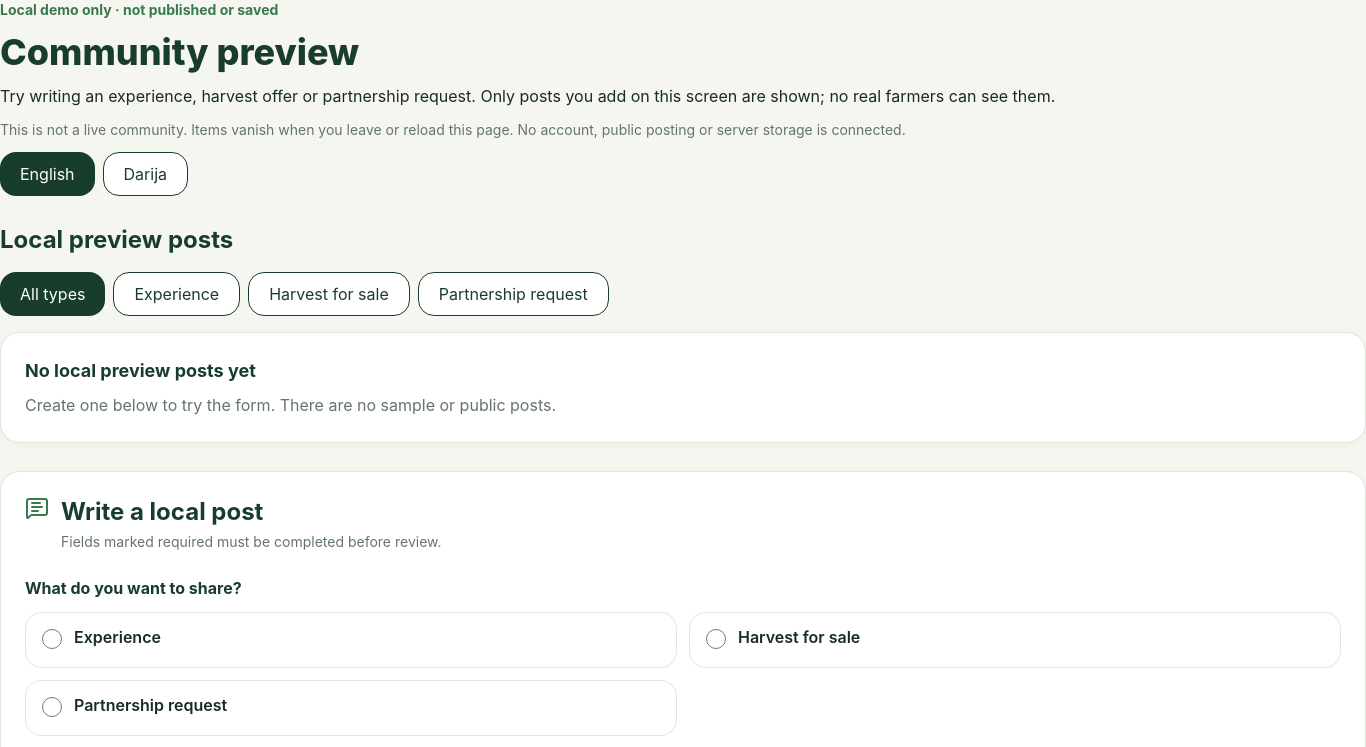
Test case: M4 community is a LOCAL demo, not public posting › reviews and adds an experience only after explicit confirmation
Click the radio button labelled "Experience" at {"x": 52, "y": 639}, box [42, 629, 62, 649]
(page scrolled)
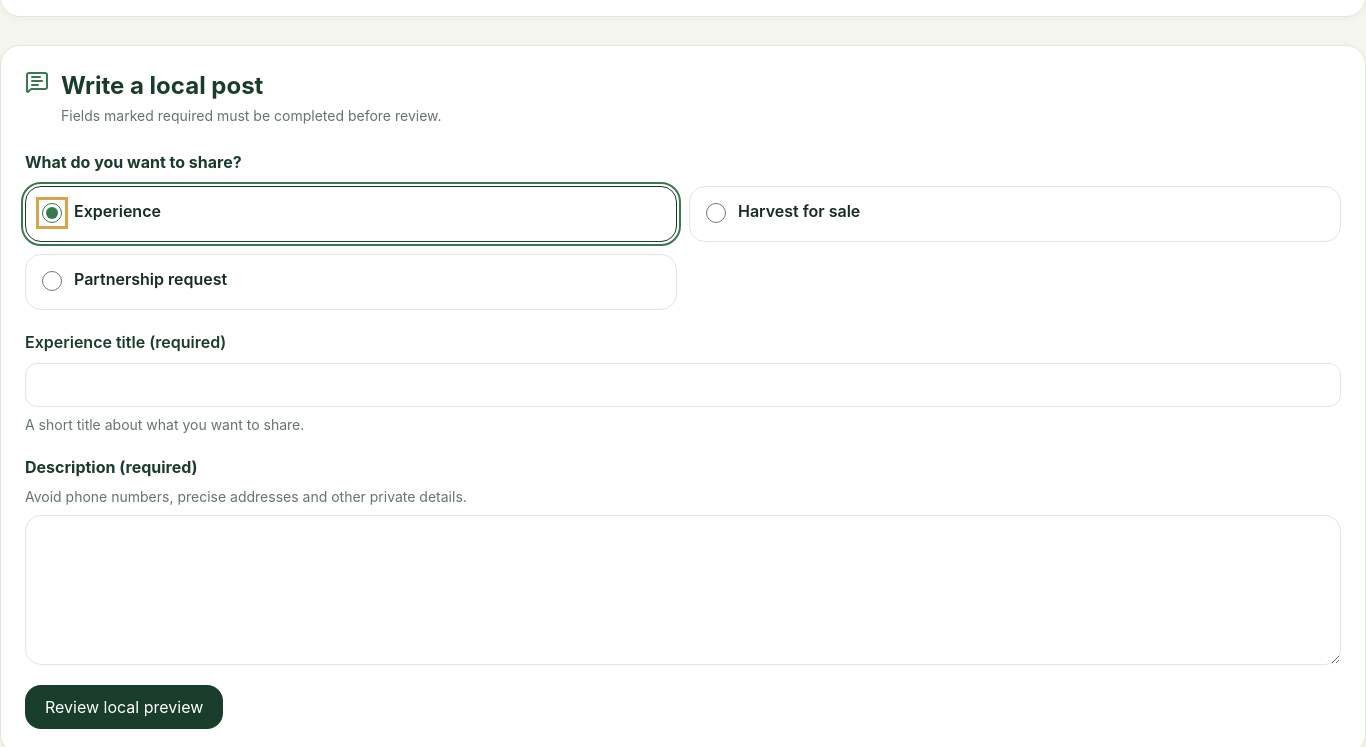
Type "My demo story" into the field labelled "Experience title (required)" at {"x": 683, "y": 385}, box [25, 363, 1341, 407]
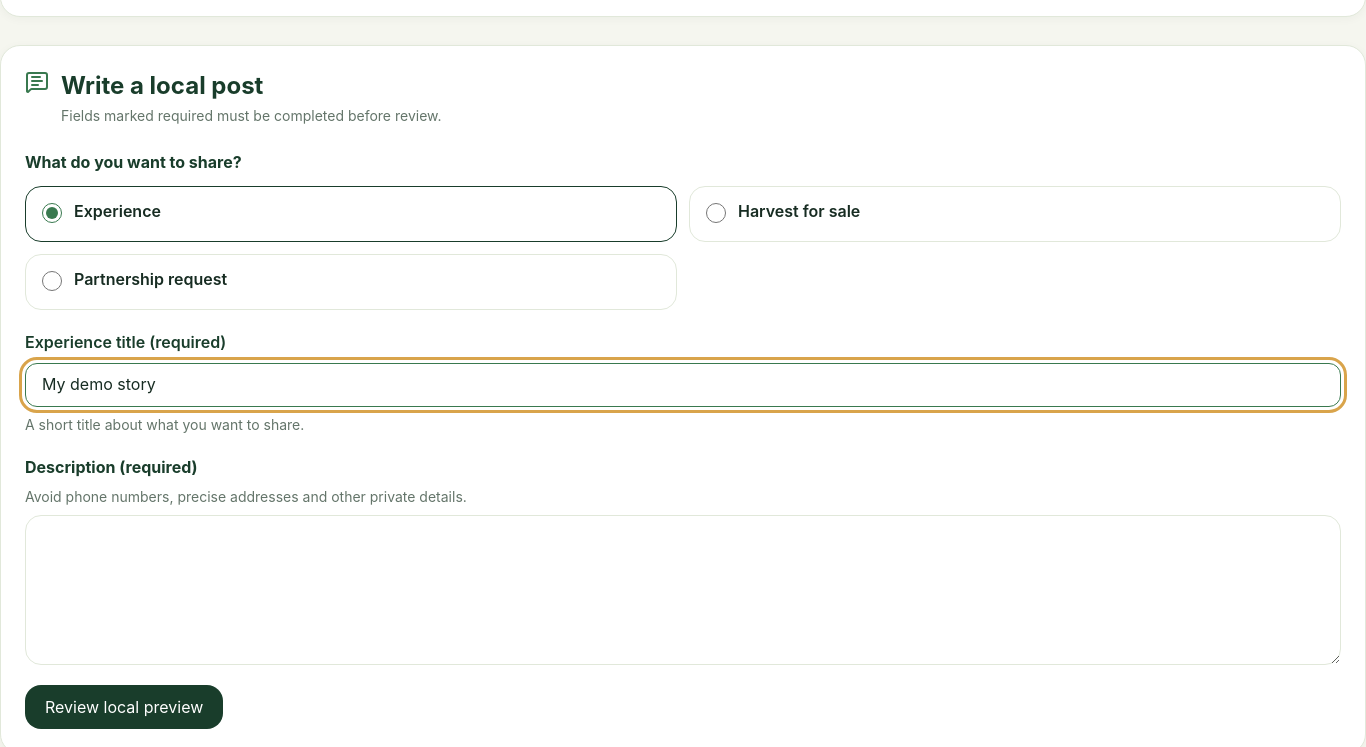
Type "Learning by trying" into the text box labelled "Description (required)" at {"x": 683, "y": 590}, box [25, 515, 1341, 665]
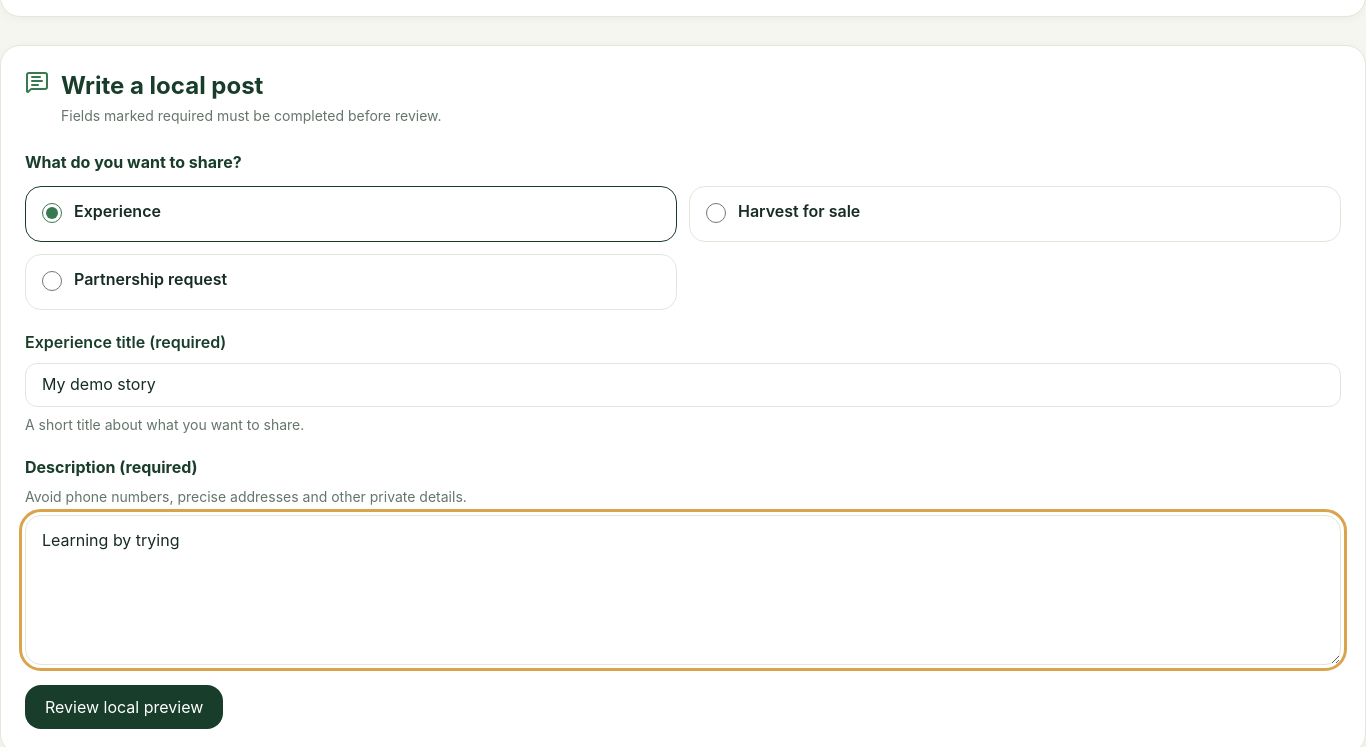
Click the button "Review local preview" at {"x": 124, "y": 707}, box [25, 685, 223, 729]
(page scrolled)
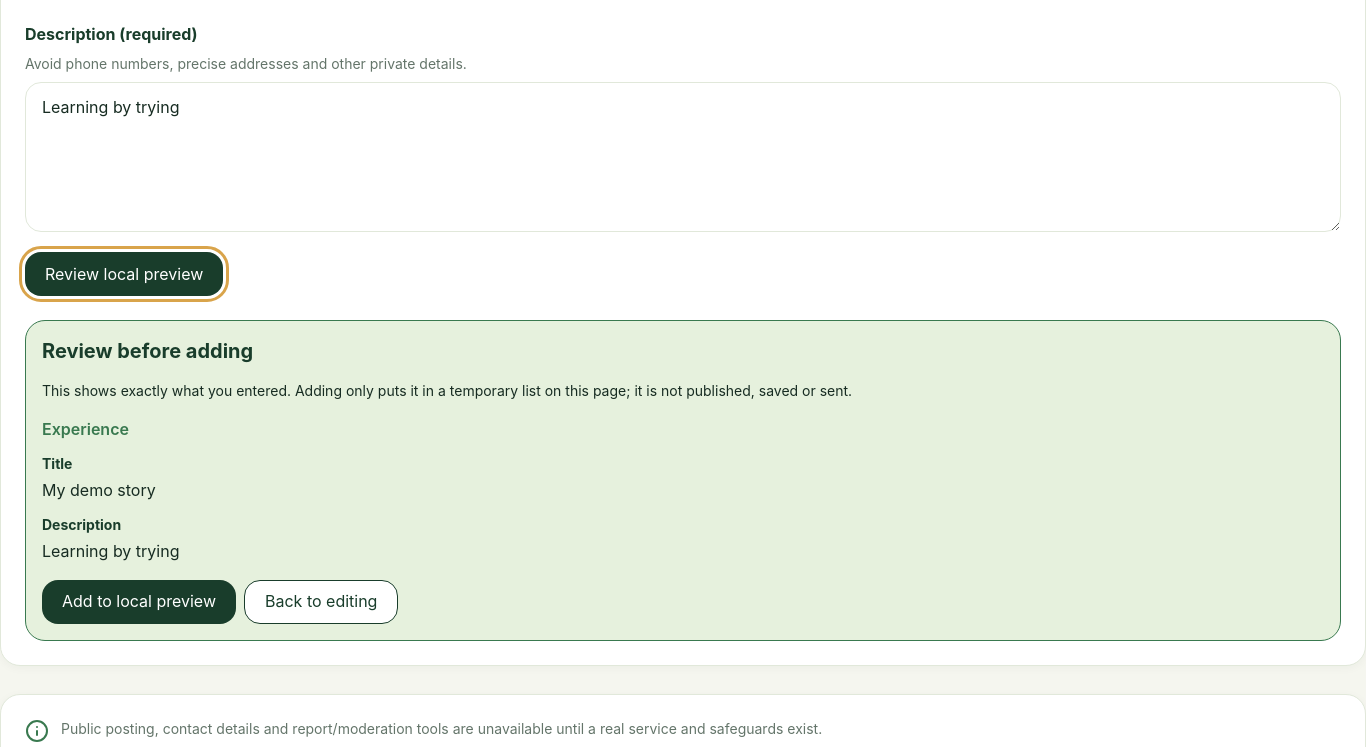
Now the heading "Review before adding" is shown, box [42, 339, 253, 363]
Click the button "Add to local preview" at {"x": 139, "y": 602}, box [42, 580, 236, 624]
(page scrolled)
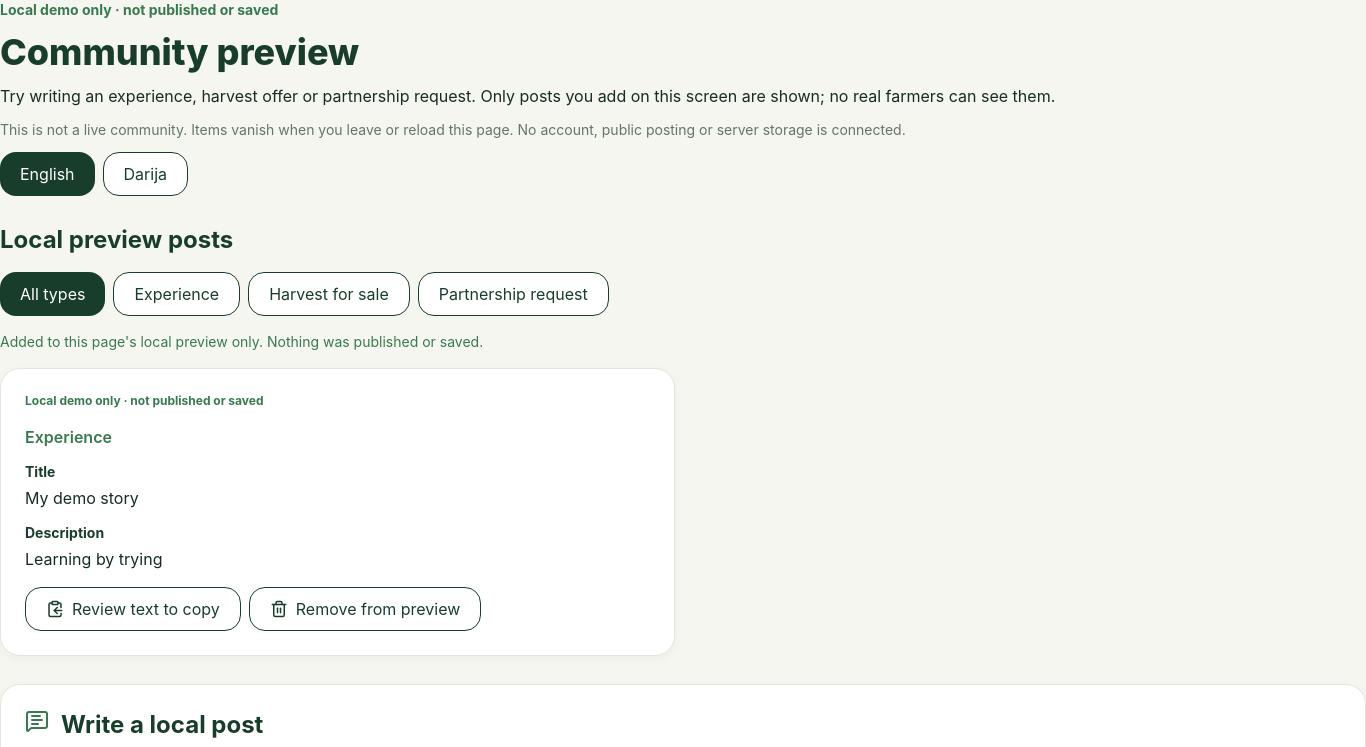
Now the text "My demo story" is shown, box [25, 488, 139, 508]
Now the text "Added to this page's local preview only. Nothing was published or saved." is shown, box [0, 333, 483, 350]
